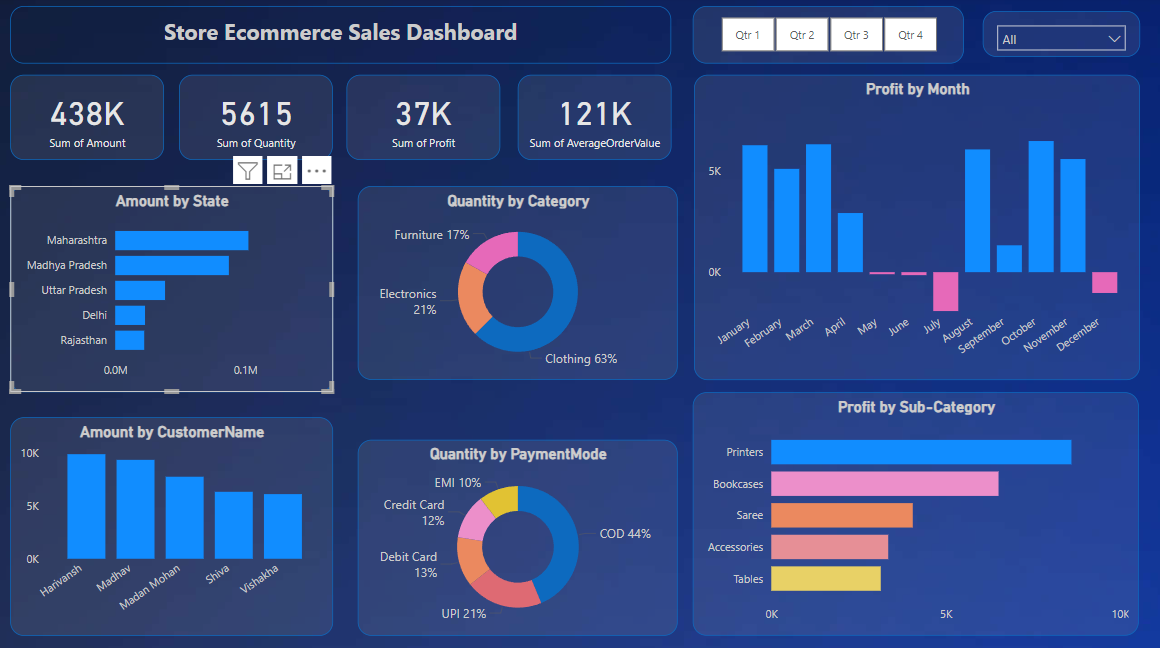

The page's visual inventory and layout, read from the dashboard file:
{"tool":"powerbi","page":{"name":"Page 1","canvas":[1280,720],"ordinal":0},"visuals":[{"type":"textbox","box":[12.3,11,725.9,63.1],"z":0},{"type":"columnChart","title":"Profit by Month","fields":{"Category":["Orders.Order Date.Variation.Date Hierarchy.Month"],"Y":["Details.Profit"]},"box":[763,86.4,489.9,334.8],"z":1000},{"type":"barChart","title":"Profit by Sub-Category","fields":{"Category":["Details.Sub-Category"],"Y":["Details.Profit"]},"box":[761.6,435,489.9,267.6],"z":2000},{"type":"donutChart","title":"Quantity by Category","fields":{"Category":["Details.Category"],"Y":["Details.Quantity"]},"box":[393.8,208.6,351.3,212.7],"z":3000},{"type":"donutChart","title":"Quantity by PaymentMode","fields":{"Y":["Details.Quantity"],"Category":["Details.PaymentMode"]},"box":[393.8,487.1,351.3,215.4],"z":4000},{"type":"card","fields":{"Values":["Details.AverageOrderValue"]},"box":[569.5,86.4,168.8,93.3],"z":5000},{"type":"card","fields":{"Values":["Details.Profit"]},"box":[381.5,86.4,168.8,93.3],"z":6000},{"type":"card","fields":{"Values":["Details.Quantity"]},"box":[197.6,86.4,168.8,93.3],"z":7000},{"type":"card","fields":{"Values":["Details.Amount"]},"box":[12.3,86.4,168.8,93.3],"z":8000},{"type":"barChart","title":"Amount by State","fields":{"Category":["Orders.State"],"Y":["Details.Amount"]},"box":[12.3,208.6,354,226.4],"z":9000},{"type":"columnChart","title":"Amount by CustomerName","fields":{"Category":["Orders.CustomerName"],"Y":["Details.Amount"]},"box":[12.3,462.4,354,240.1],"z":10000},{"type":"slicer","fields":{"Values":["Orders.Order Date.Variation.Date Hierarchy.Quarter"]},"box":[761.6,11,297.8,63.1],"z":11000},{"type":"slicer","fields":{"Values":["Orders.State"]},"box":[1079.9,16.5,172.9,50.8],"z":12000}]}

Visuals, with their boxes in screenshot pixels (x1, y1, x2, y2), scaled from the page's 1280x720 canvas onto the 1160x648 screenshot:
textbox: region(11, 10, 669, 67)
"Profit by Month" columnChart: region(691, 78, 1135, 379)
"Profit by Sub-Category" barChart: region(690, 392, 1134, 632)
"Quantity by Category" donutChart: region(357, 188, 675, 379)
"Quantity by PaymentMode" donutChart: region(357, 438, 675, 632)
card - Details.AverageOrderValue: region(516, 78, 669, 162)
card - Details.Profit: region(346, 78, 499, 162)
card - Details.Quantity: region(179, 78, 332, 162)
card - Details.Amount: region(11, 78, 164, 162)
"Amount by State" barChart: region(11, 188, 332, 392)
"Amount by CustomerName" columnChart: region(11, 416, 332, 632)
slicer - Orders.Order Date.Variation.Date Hierarchy.Quarter: region(690, 10, 960, 67)
slicer - Orders.State: region(979, 15, 1135, 61)
